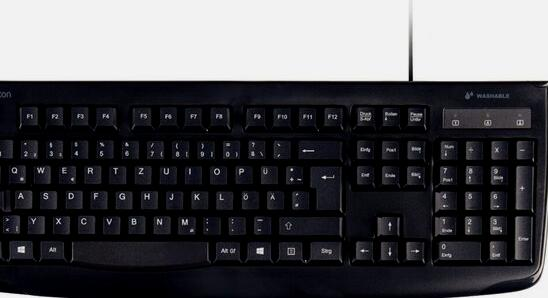0: (220, 137, 240, 158)
1: (1, 137, 12, 158)
2: (18, 137, 37, 158)
3: (43, 137, 63, 159)
4: (68, 137, 88, 158)
5: (94, 137, 113, 158)
6: (118, 137, 139, 159)
7: (144, 137, 164, 159)
8: (169, 137, 189, 159)
9: (194, 137, 214, 159)
a: (12, 187, 31, 208)
accent: (270, 137, 290, 158)
ae: (264, 188, 284, 208)
alt-left: (38, 238, 65, 259)
altgr-right: (213, 239, 240, 260)
b: (125, 213, 145, 233)
c: (75, 212, 94, 233)
caret: (1, 137, 11, 158)
comma: (200, 214, 220, 234)
d: (63, 187, 82, 208)
del: (295, 137, 340, 159)
e: (56, 162, 75, 183)
enter: (309, 164, 340, 210)
f: (88, 188, 106, 208)
g: (113, 188, 132, 208)
h: (138, 188, 157, 208)
hash: (289, 188, 308, 208)
i: (182, 163, 201, 183)
j: (163, 188, 182, 208)
k: (188, 188, 208, 208)
keyboard: (1, 81, 548, 294)
l: (213, 188, 232, 209)
less: (1, 212, 19, 233)
m: (175, 213, 195, 234)
minus: (251, 213, 270, 233)
n: (151, 213, 170, 233)
o: (207, 163, 226, 183)
oe: (239, 188, 258, 208)
p: (233, 162, 252, 183)
plus: (283, 162, 302, 184)
point: (226, 214, 245, 234)
q: (6, 162, 25, 183)
r: (81, 162, 101, 182)
s: (37, 188, 56, 208)
shift-left: (1, 213, 14, 234)
shift-lock: (1, 188, 17, 208)
shift-right: (277, 214, 339, 234)
space: (70, 238, 209, 268)
ss: (245, 137, 265, 158)
strg-left: (1, 237, 18, 259)
strg-right: (306, 239, 341, 260)
t: (107, 162, 125, 183)
tab: (1, 162, 17, 183)
u: (157, 162, 177, 184)
ue: (258, 162, 277, 183)
v: (100, 213, 120, 233)
w: (31, 162, 50, 183)
x: (51, 213, 69, 233)
y: (25, 213, 44, 233)
z: (132, 163, 151, 183)
